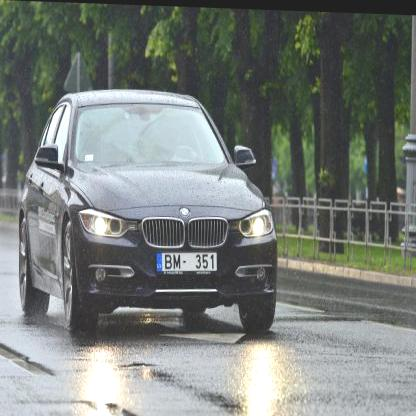License_Plate: (155, 249, 217, 278)
